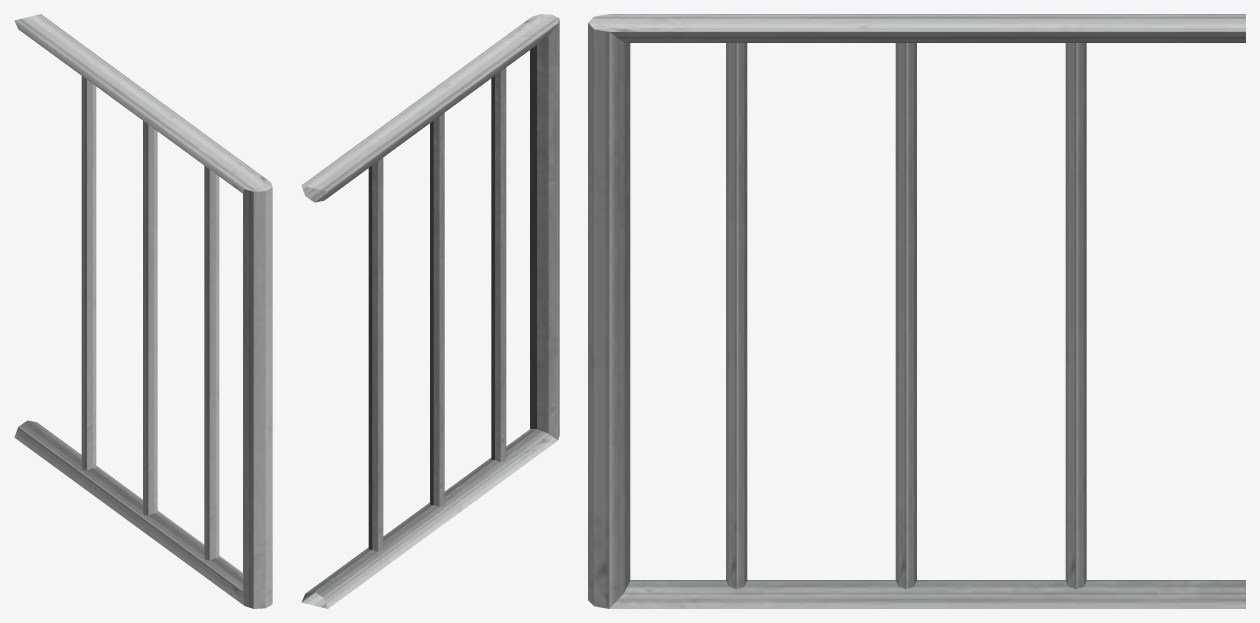
3 views of the same model, side by side, from view 1: azimuth 30°, elevation 25°; view 2: azimuth 150°, elevation 25°; view 3: azimuth 270°, elevation 25° (orthographic). The views are drawn at different scales.
Visible parts, largest first — view 1: 不锈钢栏杆1; view 2: 不锈钢栏杆1; view 3: 不锈钢栏杆1.
Boxes of the visible parts, x1,y1,x2,y2 form: 不锈钢栏杆1: (14,14,272,608); 不锈钢栏杆1: (301,14,559,608); 不锈钢栏杆1: (588,14,1245,608).
Size of the model in its own units: 0.1 by 1.5 by 1.55.
1 material, 1 textured.
